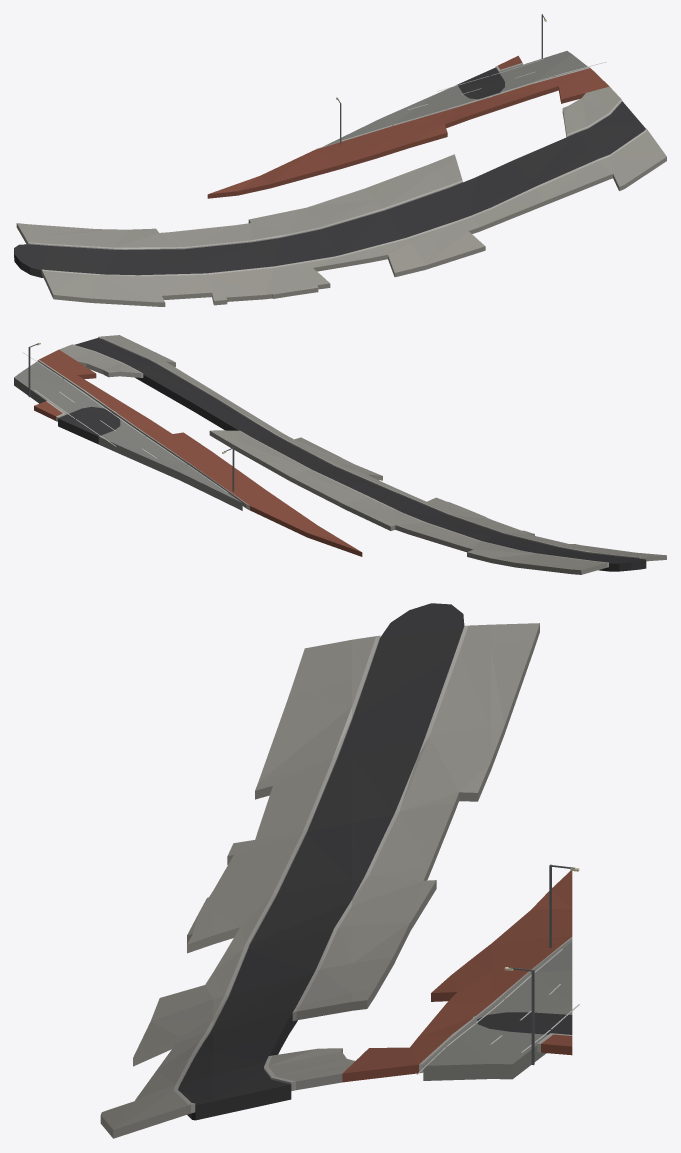
The model's file is 17-109434-59470.f997bca5.glb.
3 renders of one model, top to bottom at view 1: azimuth 30°, elevation 25°; view 2: azimuth 150°, elevation 25°; view 3: azimuth 270°, elevation 25°, orthographic. The views are drawn at different scales.
Size of the model in its own units: 97.9 by 22.15 by 34.53.
